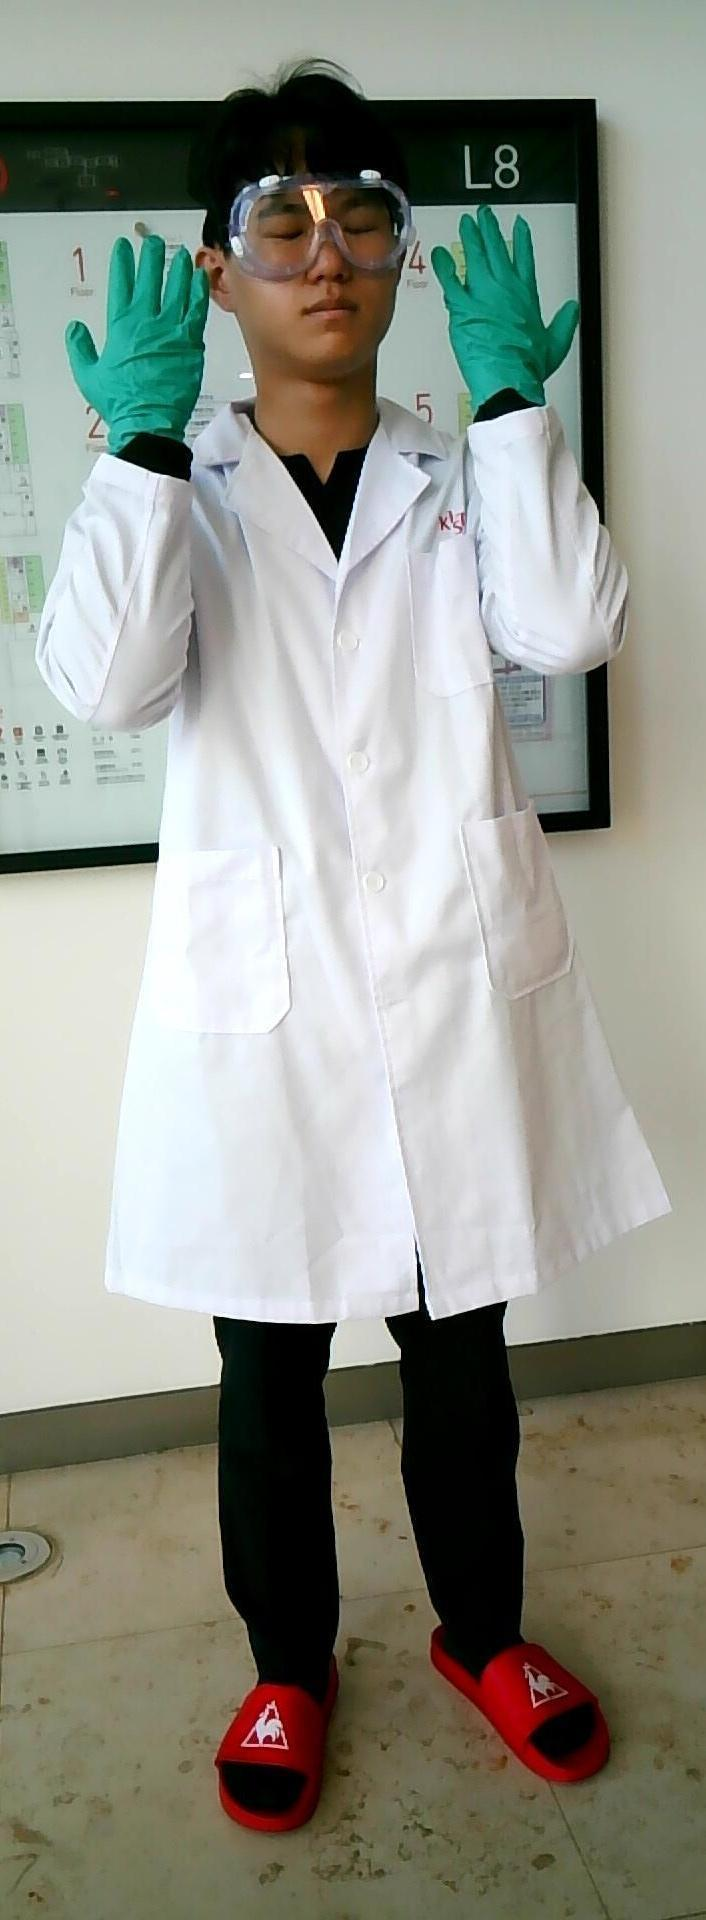lab_coat: (102, 446, 580, 1315)
